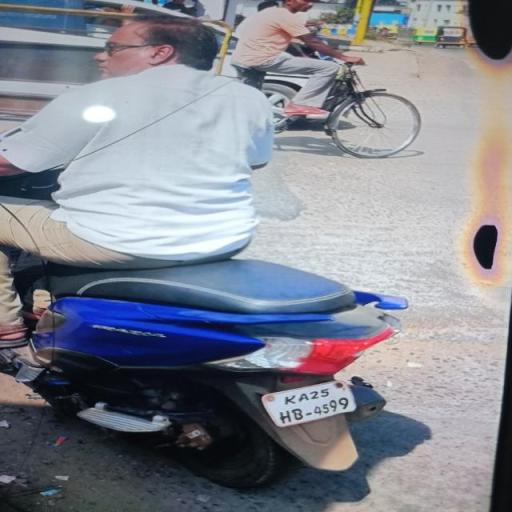bike: (0, 11, 401, 489)
numberplate: (259, 370, 359, 430)
withouthelmet: (101, 17, 217, 69)
